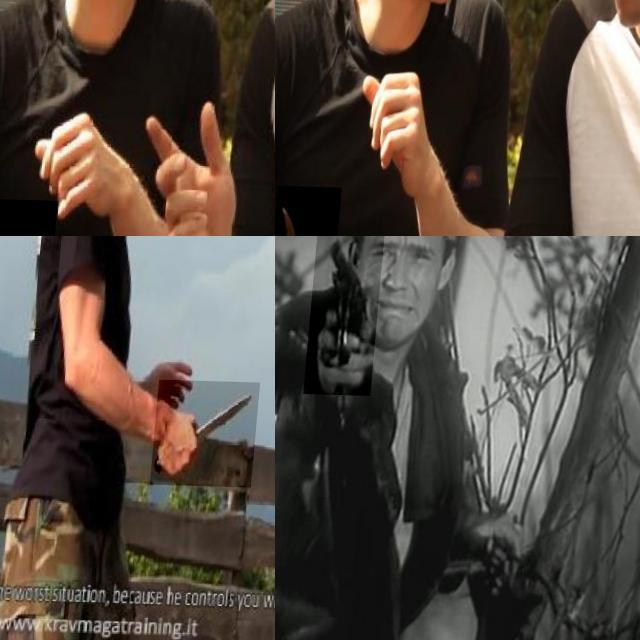-: (158, 378, 266, 485), (276, 185, 351, 236), (0, 198, 67, 236)
gun-knife-thesis - v11 Yolov5 augmented: (308, 236, 386, 393)
